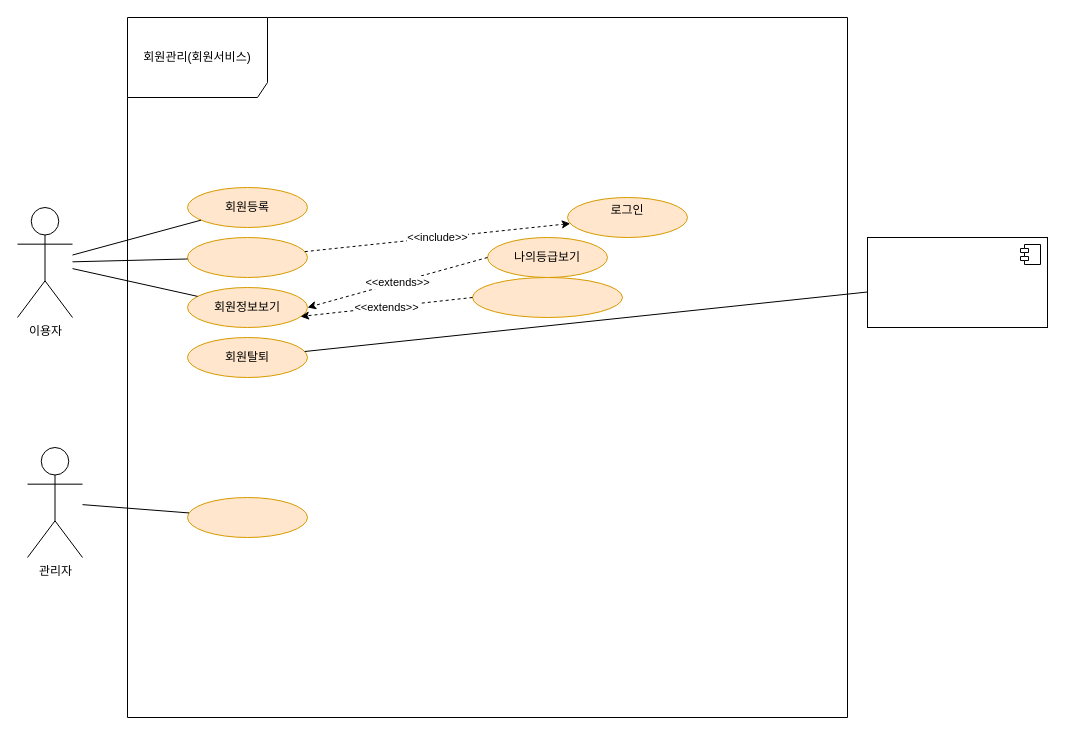
This 1065x735 diagram has some shape labels left out. Each missing label, with the box of its shape:
DBMS: (866, 236, 1048, 328)
포인트점수확인하기: (472, 276, 622, 318)
회원전체조회: (186, 496, 308, 538)
회원정보수정: (186, 236, 308, 278)
